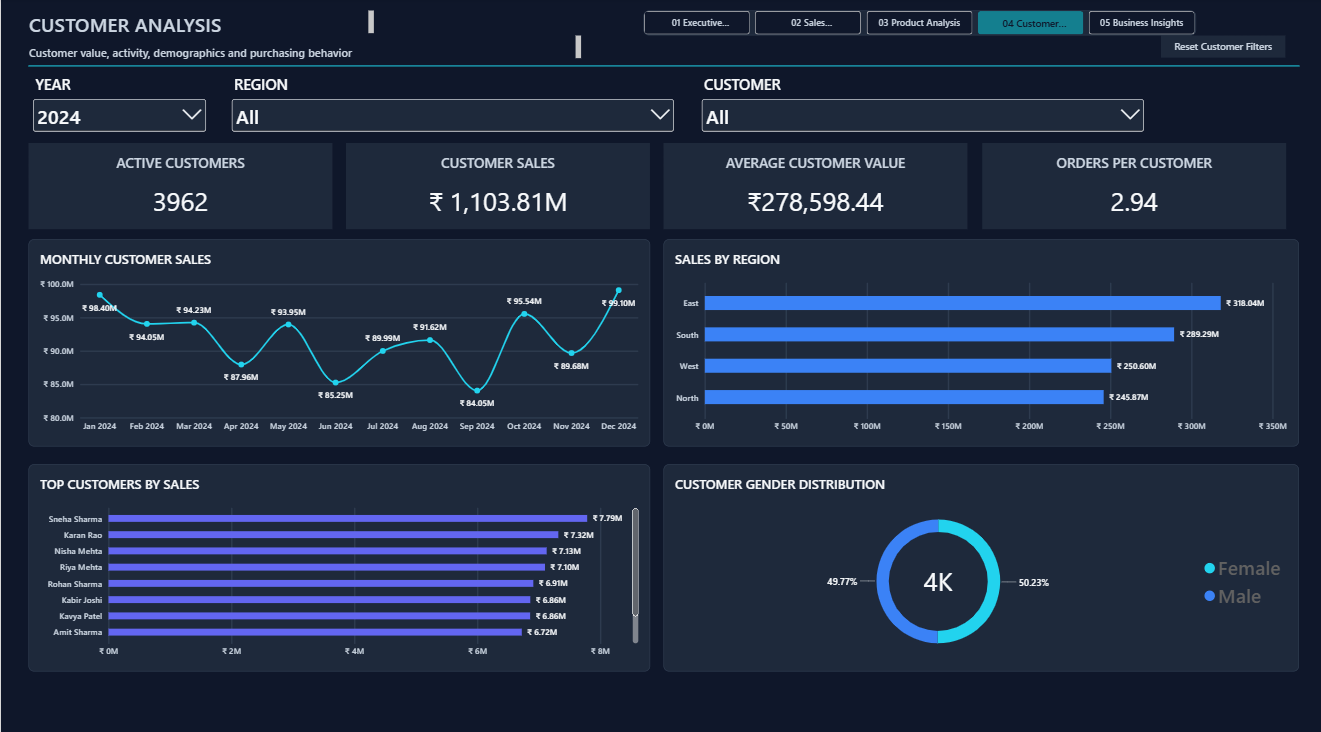

The page's visual inventory and layout, read from the dashboard file:
{"tool":"powerbi","page":{"name":"04 Customer Analysis","canvas":[1920,1080],"ordinal":4},"visuals":[{"type":"textbox","box":[40,18,500,35],"z":0},{"type":"textbox","box":[40,55,800,35],"z":1000},{"type":"shape","box":[40,92,1840,12],"z":2000},{"type":"slicer","fields":{"Values":["DimDate.Year"]},"box":[40.7,110.5,260,85],"z":3000},{"type":"slicer","fields":{"Values":["DimStore.Store_Region"]},"box":[330,110,650,85],"z":4000},{"type":"slicer","fields":{"Values":["DimCustomer.Customer_Name"]},"box":[1010,110,650,85],"z":5000},{"type":"actionButton","box":[1680,55,180,32],"z":6000},{"type":"card","title":"ACTIVE CUSTOMERS","fields":{"Values":["_Measures.Active Customers"]},"box":[40,210,440,125],"z":7000},{"type":"card","title":"CUSTOMER SALES","fields":{"Values":["_Measures.Total Sales"]},"box":[500,210,440,125],"z":8000},{"type":"card","title":"AVERAGE CUSTOMER VALUE","fields":{"Values":["_Measures.Average Customer Value"]},"box":[960,210,440,125],"z":9000},{"type":"card","title":"ORDERS PER CUSTOMER","fields":{"Values":["_Measures.Orders per Customer"]},"box":[1420,210,440,125],"z":10000},{"type":"lineChart","title":"MONTHLY CUSTOMER SALES","fields":{"Category":["DimDate.Month Year"],"Y":["_Measures.Total Sales"]},"box":[40,350,900,300],"z":11000},{"type":"clusteredBarChart","title":"SALES BY REGION","fields":{"Category":["DimStore.Store_Region"],"Y":["_Measures.Total Sales"]},"box":[960,350,920,300],"z":12000},{"type":"clusteredBarChart","title":"TOP CUSTOMERS BY SALES","fields":{"Category":["DimCustomer.Customer_Name"],"Y":["_Measures.Total Sales"]},"box":[40,675.4,900,300],"z":13000},{"type":"donutChart","title":"CUSTOMER GENDER DISTRIBUTION","fields":{"Category":["DimCustomer.Gender"],"Y":["_Measures.Active Customers"]},"box":[960,675,920,300],"z":14000},{"type":"pageNavigator","box":[930,18.1,800,36],"z":15000}]}

Visuals, with their boxes in screenshot pixels (x1, y1, x2, y2), scaled from the page's 1920x1080 canvas onto the 1321x732 screenshot:
textbox: (left=28, top=12, right=372, bottom=36)
textbox: (left=28, top=37, right=578, bottom=61)
shape: (left=28, top=62, right=1293, bottom=70)
slicer - DimDate.Year: (left=28, top=75, right=207, bottom=133)
slicer - DimStore.Store_Region: (left=227, top=75, right=674, bottom=132)
slicer - DimCustomer.Customer_Name: (left=695, top=75, right=1142, bottom=132)
actionButton: (left=1156, top=37, right=1280, bottom=59)
"ACTIVE CUSTOMERS" card: (left=28, top=142, right=330, bottom=227)
"CUSTOMER SALES" card: (left=344, top=142, right=647, bottom=227)
"AVERAGE CUSTOMER VALUE" card: (left=660, top=142, right=963, bottom=227)
"ORDERS PER CUSTOMER" card: (left=977, top=142, right=1280, bottom=227)
"MONTHLY CUSTOMER SALES" lineChart: (left=28, top=237, right=647, bottom=441)
"SALES BY REGION" clusteredBarChart: (left=660, top=237, right=1293, bottom=441)
"TOP CUSTOMERS BY SALES" clusteredBarChart: (left=28, top=458, right=647, bottom=661)
"CUSTOMER GENDER DISTRIBUTION" donutChart: (left=660, top=458, right=1293, bottom=661)
pageNavigator: (left=640, top=12, right=1190, bottom=37)
